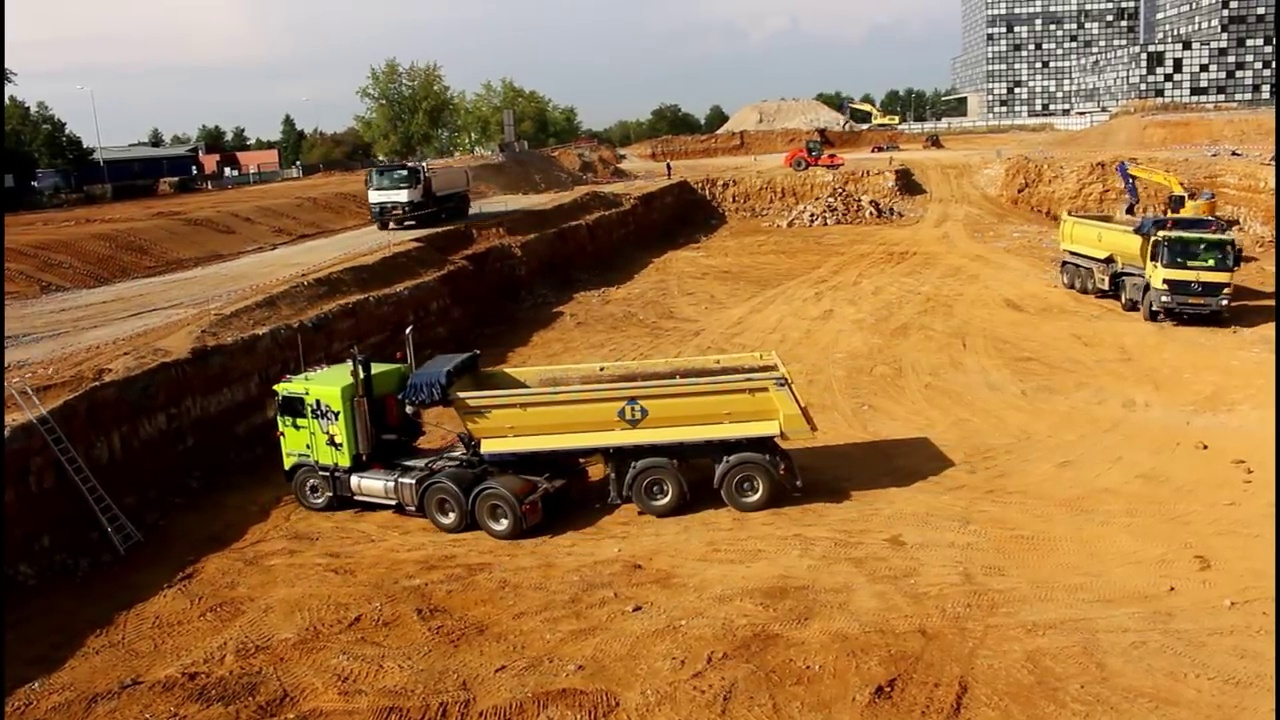compactor: (782, 138, 848, 176)
excavator: (1103, 157, 1227, 262), (840, 99, 902, 134)
truck: (265, 321, 822, 544), (1057, 210, 1244, 324), (364, 158, 472, 233)
worker: (662, 155, 678, 183)
